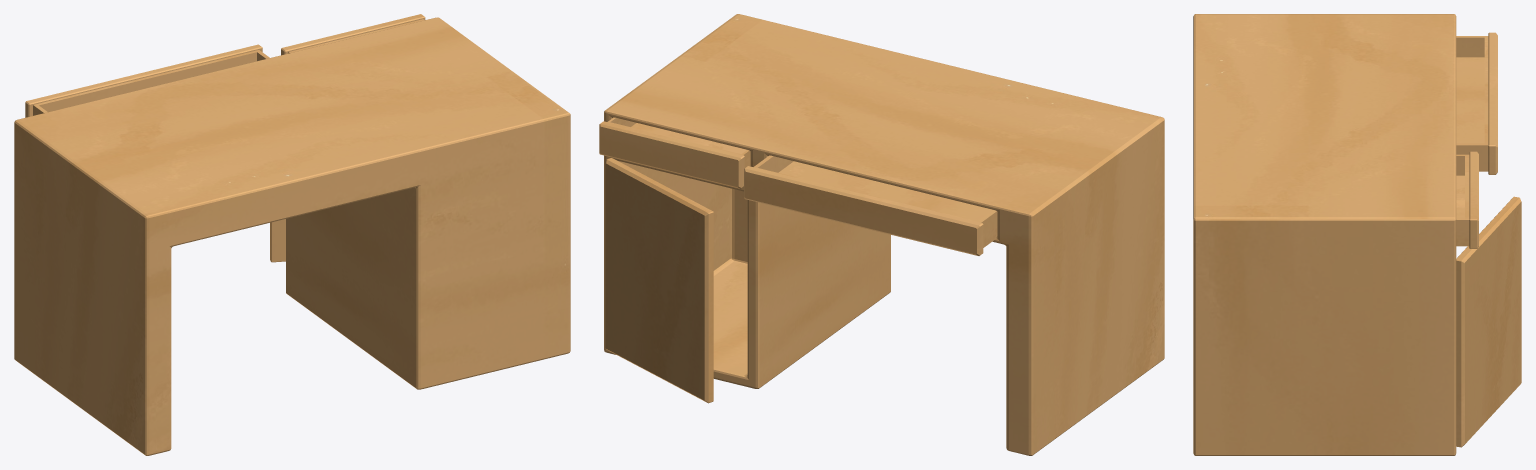
Rendered from DeskTextured.glb.
The picture shows the model from 3 angles, left to right: view 1: azimuth 30°, elevation 25°; view 2: azimuth 150°, elevation 25°; view 3: azimuth 270°, elevation 25°; orthographic projection.
Parts seen in each view (by area): view 1: Cube; view 2: Cube; view 3: Cube.
Boxes of the visible parts, x1=… form: Cube: x1=14, y1=14, x2=570, y2=455; Cube: x1=599, y1=14, x2=1164, y2=455; Cube: x1=1193, y1=14, x2=1521, y2=455.
Size of the model in its own units: 11.43 by 6.17 by 7.7.
Materials: 2 (2 with a texture image).
